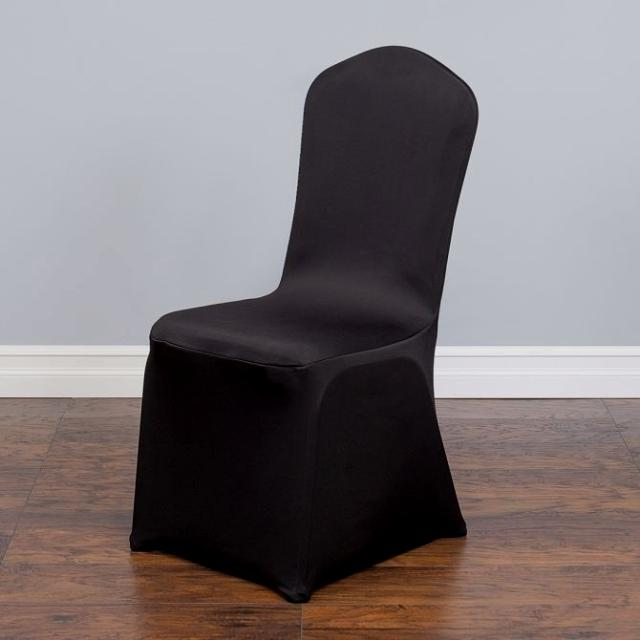Chair: (128, 45, 483, 612)
